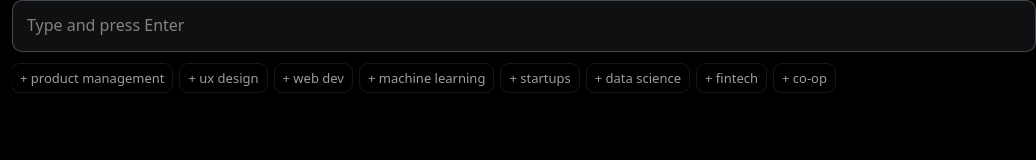
TagInput › adds a suggestion on click
What coordinates should you click on to do the following:
click the button "+ startups"
I would click on:
 (540, 78)
Its box is [501, 64, 579, 92].
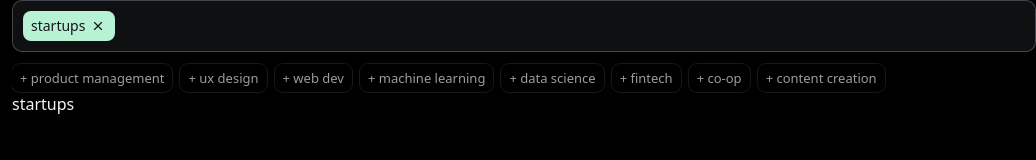
Expected: the element showing "startups" is shown, [23, 11, 115, 41]
